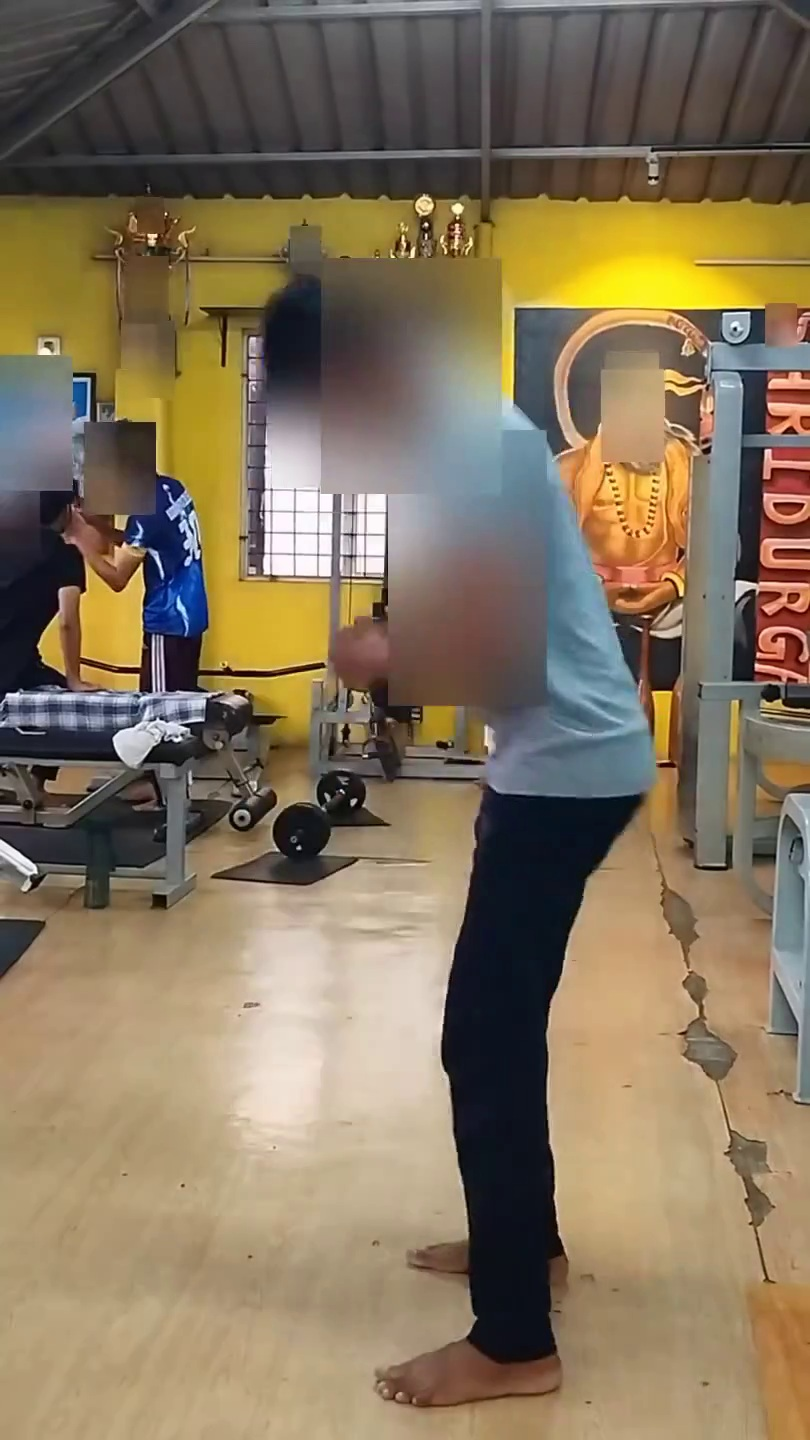squat: (314, 451, 703, 1440)
